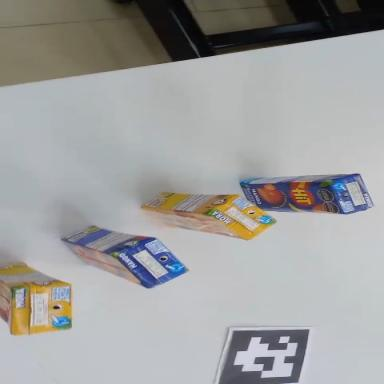HIT-MANGO: (57, 206, 194, 300), (240, 172, 373, 219)
HIT-MORA: (139, 180, 278, 244), (0, 263, 70, 335)
cara_F: (55, 240, 153, 288), (140, 208, 248, 240), (241, 184, 342, 213), (0, 283, 11, 333)
